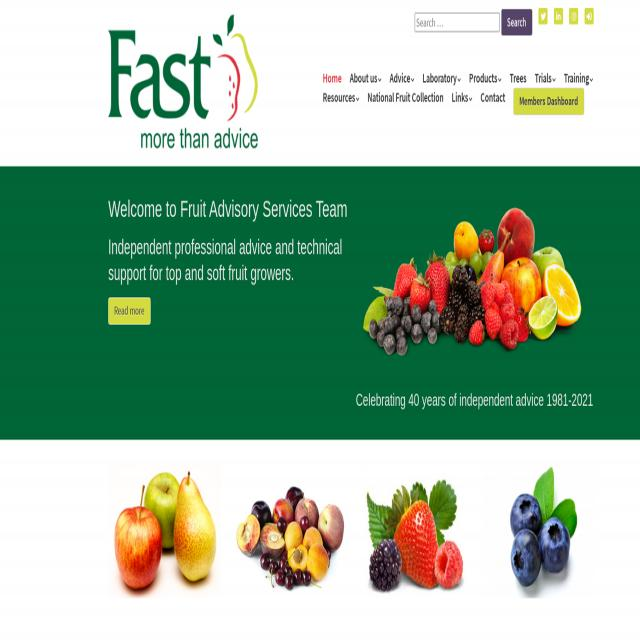button: (108, 15, 258, 148), (108, 476, 221, 586), (233, 476, 346, 586), (358, 476, 470, 586), (488, 476, 590, 586), (513, 88, 584, 115), (108, 298, 151, 324), (501, 9, 532, 36), (536, 12, 550, 21), (582, 12, 596, 21), (552, 12, 565, 21), (568, 12, 580, 21)
field: (414, 13, 500, 32)
